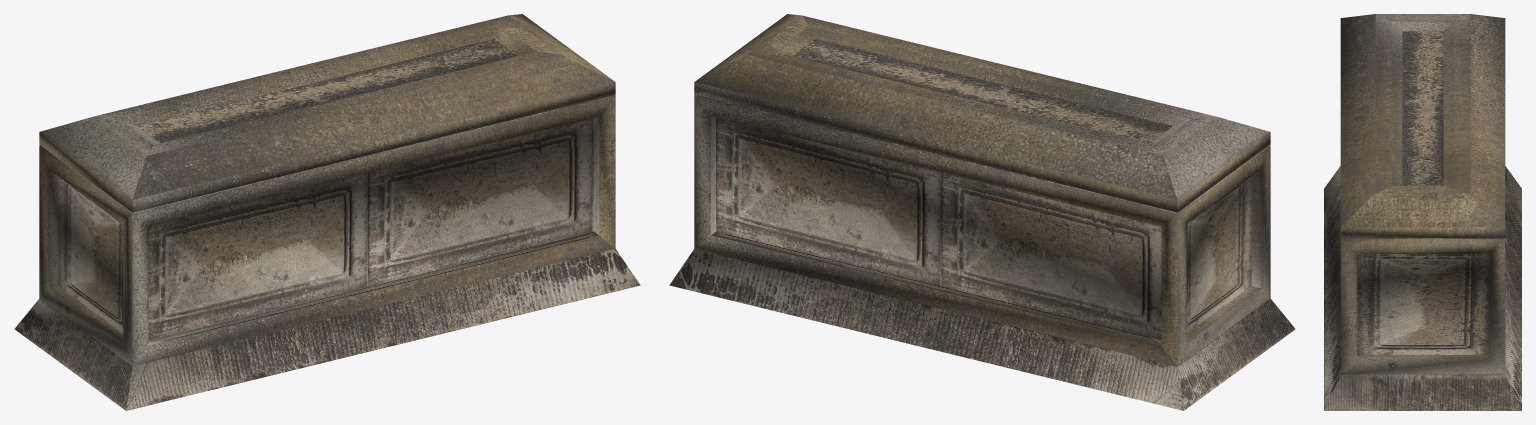
File: Stone_Coffin@Open.fbx
3 renders of one model, left to right at view 1: azimuth 30°, elevation 25°; view 2: azimuth 150°, elevation 25°; view 3: azimuth 270°, elevation 25°, orthographic. The views are drawn at different scales.
Visible parts, largest first — view 1: Corpus, Cap; view 2: Corpus, Cap; view 3: Cap, Corpus.
Part boxes in pixels (<box>): Corpus: <box>14,95,640,410</box>; Cap: <box>39,14,615,212</box>; Corpus: <box>669,95,1295,410</box>; Cap: <box>694,14,1270,212</box>; Cap: <box>1340,14,1505,238</box>; Corpus: <box>1324,166,1521,410</box>.
Size of the model in its own units: 39.94 by 16.44 by 15.02.
Materials: 1 (1 with a texture image).
